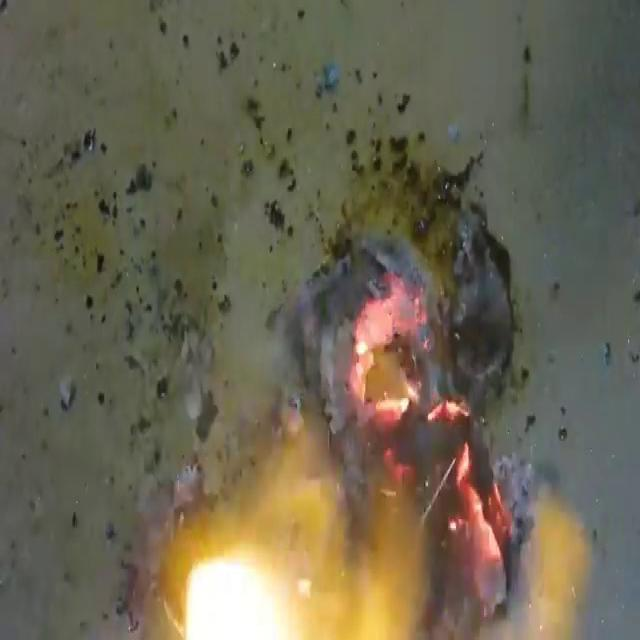Fire: (135, 133, 600, 639)
